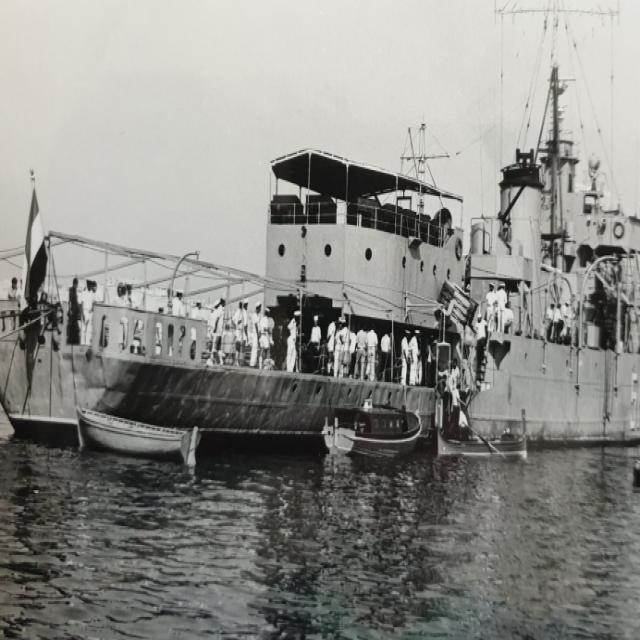Fragata: (1, 1, 640, 449)
